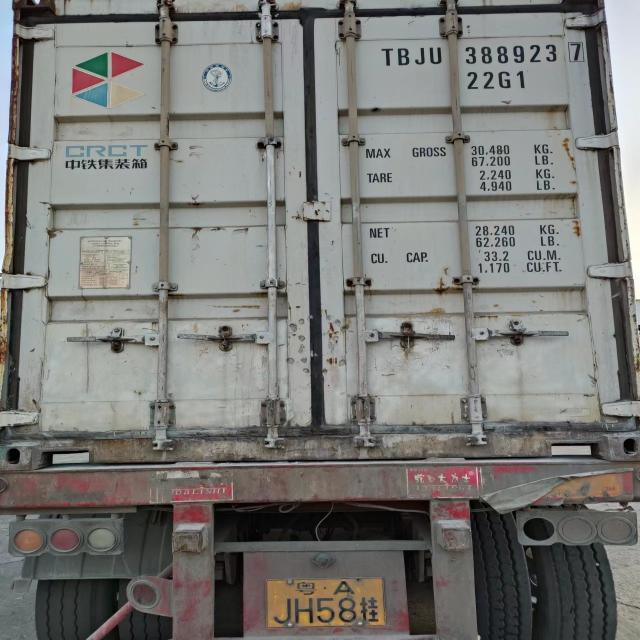ISO: (468, 71, 526, 93)
container_number: (387, 43, 580, 68)
